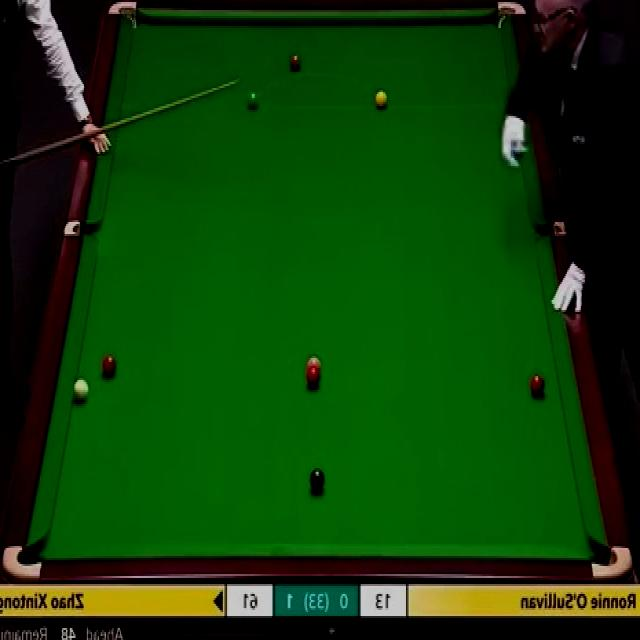black-ball: (308, 468, 326, 490)
brown-ball: (288, 53, 302, 74)
green-ball: (247, 89, 260, 110)
pink-ball: (307, 356, 322, 370)
red-ball: (102, 352, 117, 378), (531, 373, 546, 398), (306, 368, 321, 386)
white-ball: (72, 378, 90, 403)
yellow-ball: (375, 89, 389, 110)
